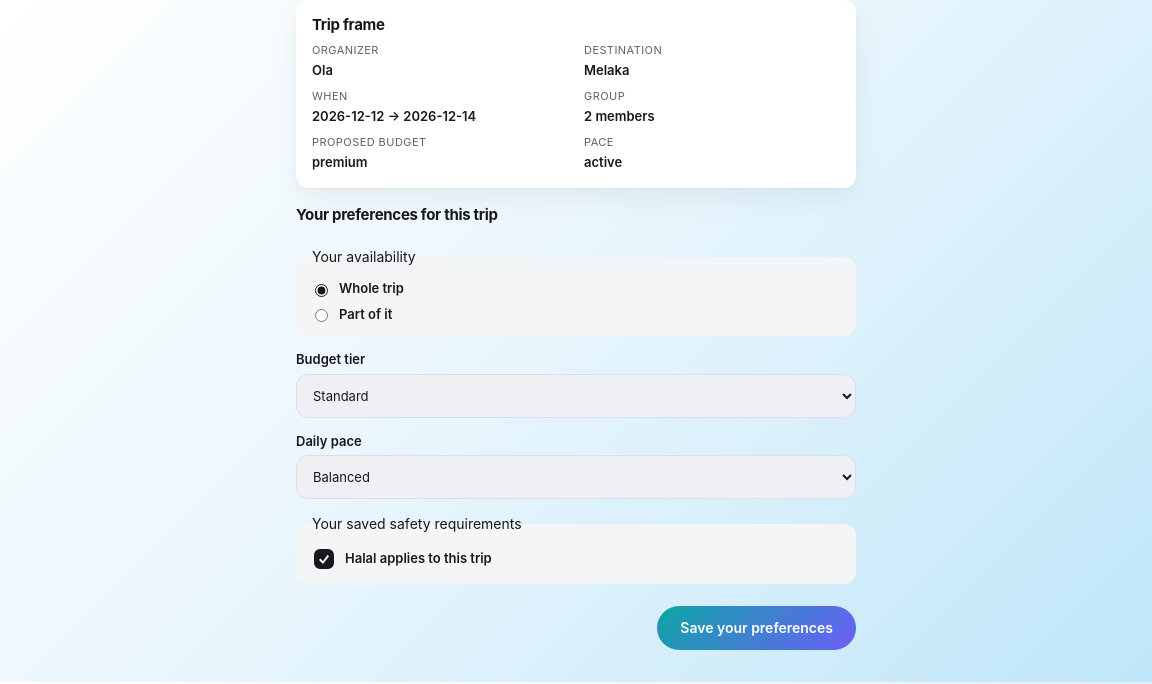
Scenario: MemberEntryPanel › blocks submit until part-trip availability has a date, then posts a full-trip entry
What coordinates should you click on to do the following:
click the radio button labelled "Part of it"
I would click on:
 (322, 316)
Its box is [315,309,328,322].
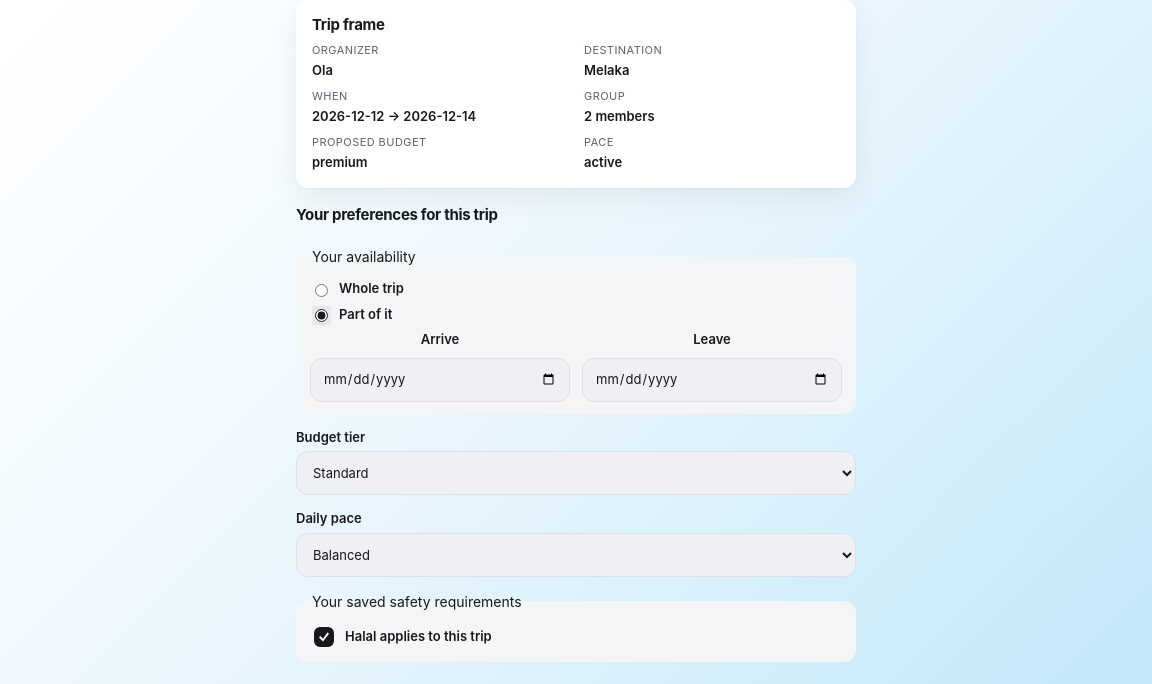
What coordinates should you click on to do the following:
click the radio button labelled "Whole trip"
I would click on:
 (322, 290)
Its box is [315,284,328,297].
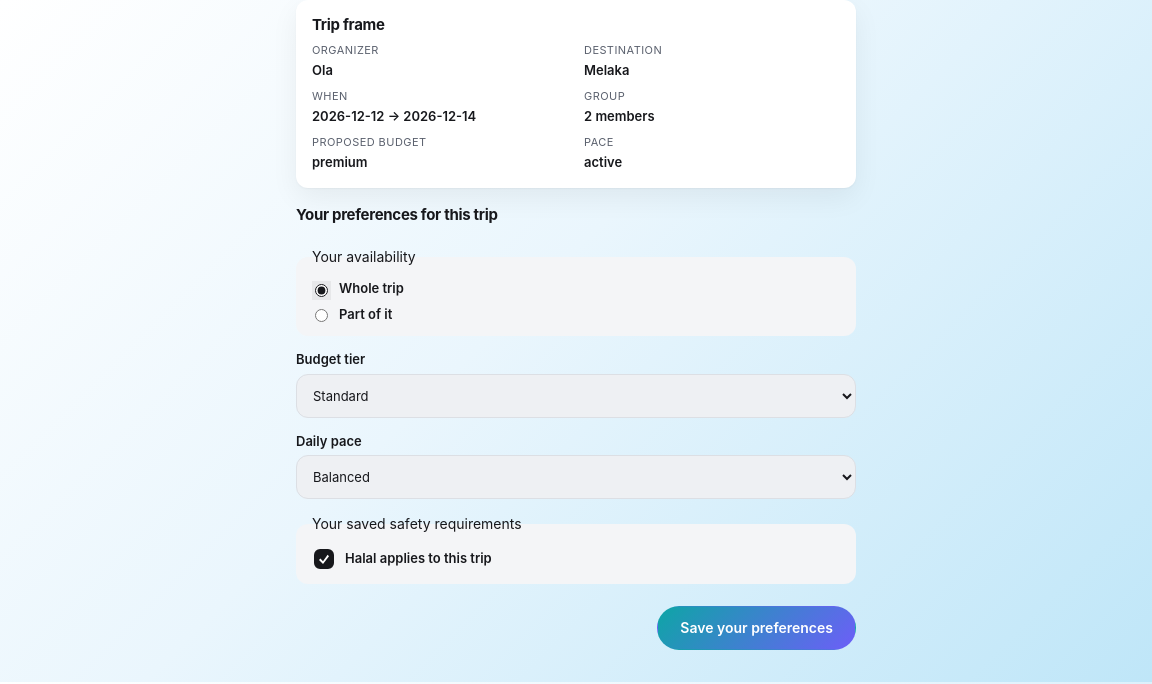
Check: the button "Save your preferences" is enabled
What coordinates should you click on to do the following:
click the button "Save your preferences"
I would click on:
 (757, 628)
Its box is [657,606,856,650].
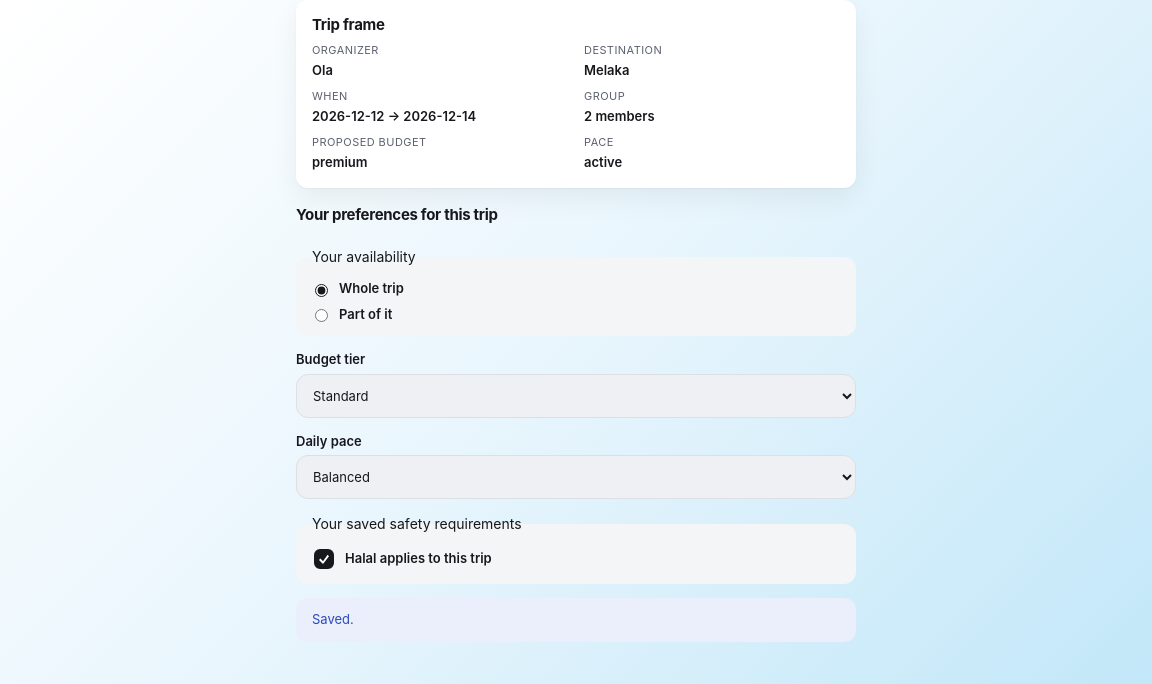
Check: the message reads "Saved.", box [312,611,354,627]
